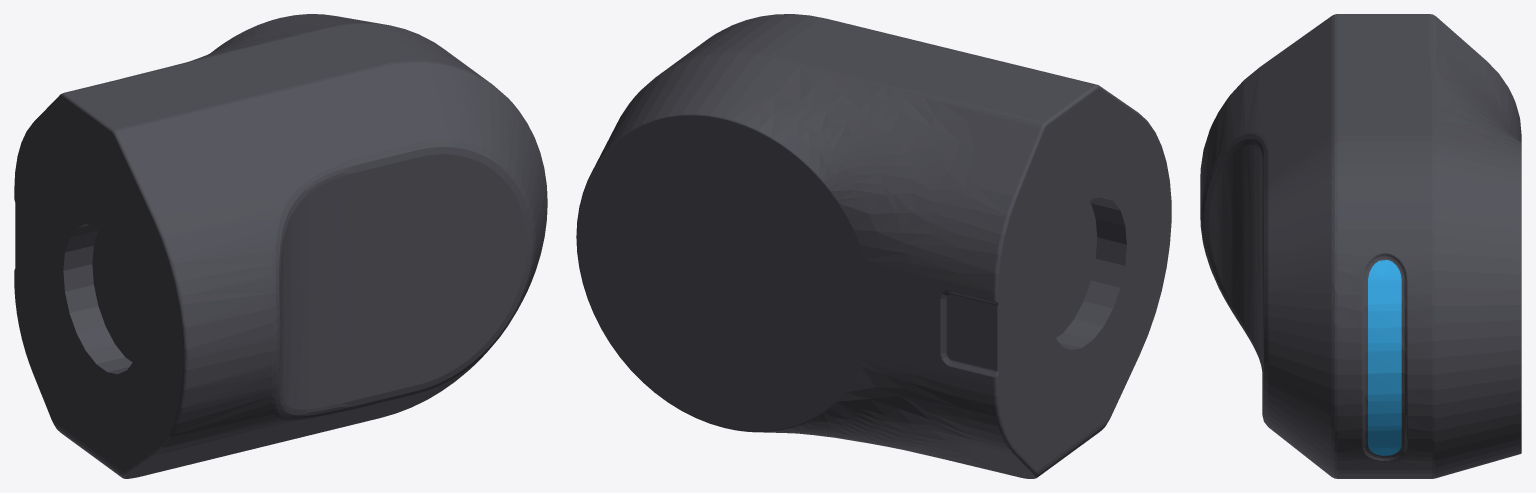
File: BP3_ABAD_L.dae
The picture shows the model from 3 angles, left to right: view 1: azimuth 30°, elevation 25°; view 2: azimuth 150°, elevation 25°; view 3: azimuth 270°, elevation 25°; orthographic projection. The views are drawn at different scales.
Parts seen in each view (by area): view 1: Abad L; view 2: Abad L; view 3: Abad L.
Boxes of the visible parts, left/top/right/bottom form: Abad L: left=14, top=14, right=547, bottom=478; Abad L: left=576, top=14, right=1171, bottom=478; Abad L: left=1200, top=14, right=1521, bottom=478.
Bounding box in the file's own units: 0.1501 × 0.1031 × 0.1161.
1 material, 1 textured.
